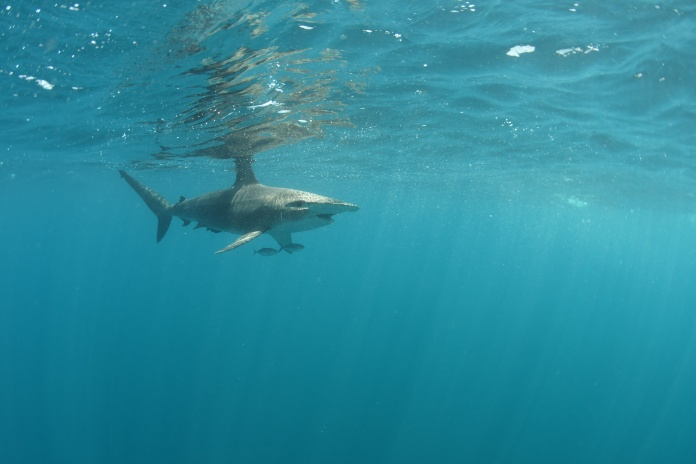Hammer: (111, 134, 380, 287)
